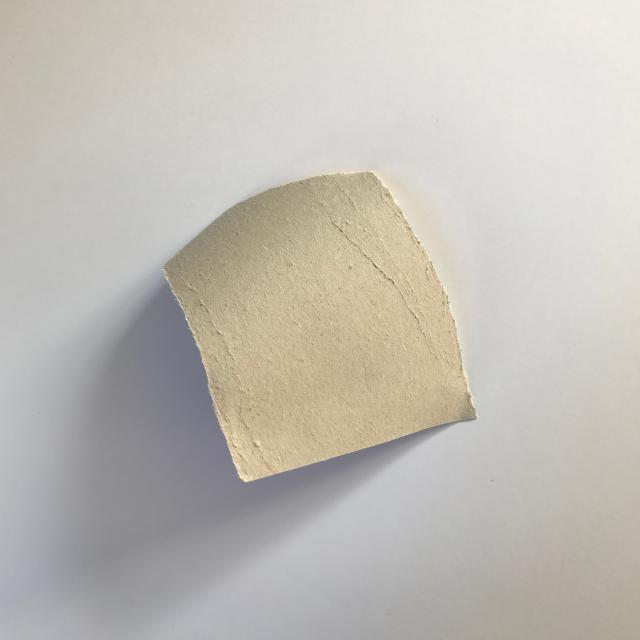paper: (109, 139, 538, 513)
